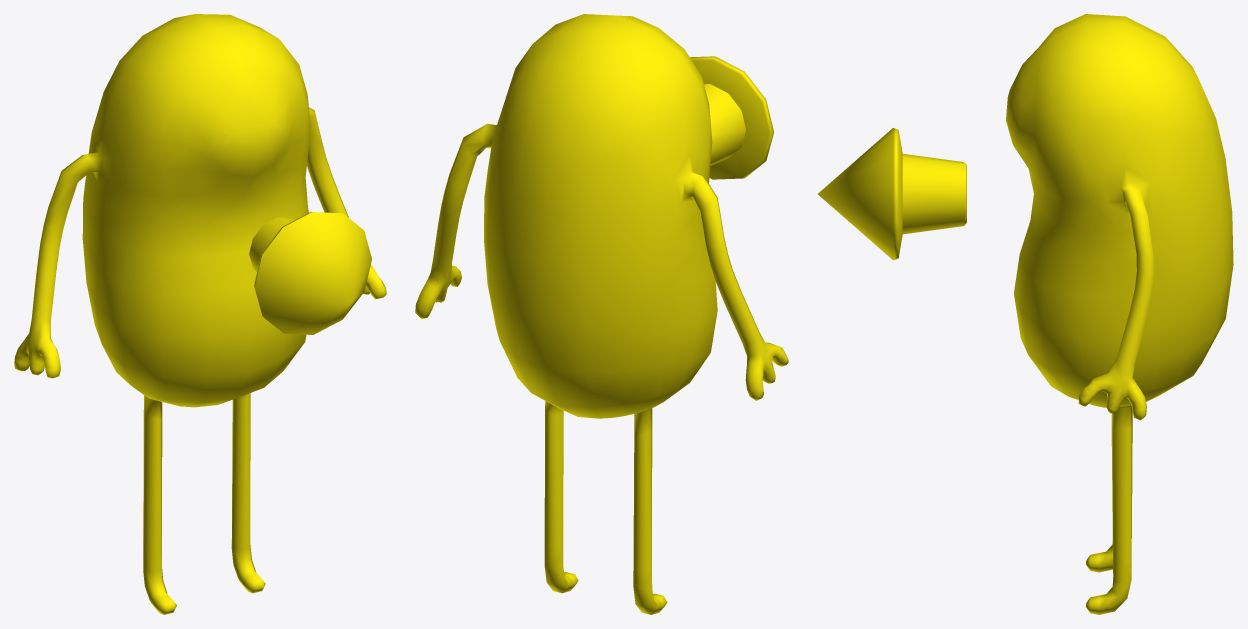
Rendered from Gizmo_Spawn_Checkpoint_Collider_None.glb.
3 views of the same model, side by side, from view 1: azimuth 30°, elevation 25°; view 2: azimuth 150°, elevation 25°; view 3: azimuth 270°, elevation 25° (orthographic). The views are drawn at different scales.
Parts seen in each view (by area): view 1: Guizmo_Spawner_Collider_None; view 2: Guizmo_Spawner_Collider_None; view 3: Guizmo_Spawner_Collider_None.
Part boxes in pixels (x1=…): Guizmo_Spawner_Collider_None: x1=14, y1=14, x2=386, y2=614; Guizmo_Spawner_Collider_None: x1=415, y1=14, x2=788, y2=614; Guizmo_Spawner_Collider_None: x1=818, y1=14, x2=1233, y2=614.
Bounding box in the file's own units: 1.09 × 1.73 × 1.15.
